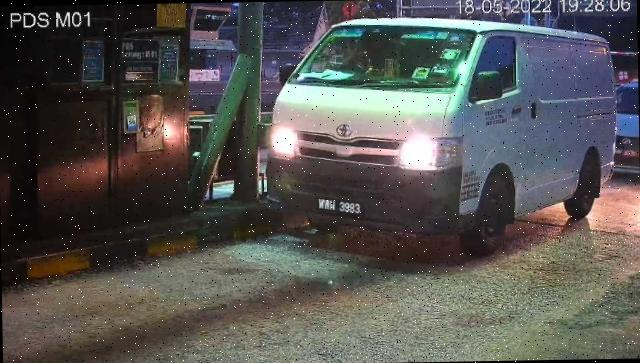License_Plate: (316, 194, 366, 222)
van: (264, 15, 619, 259)
